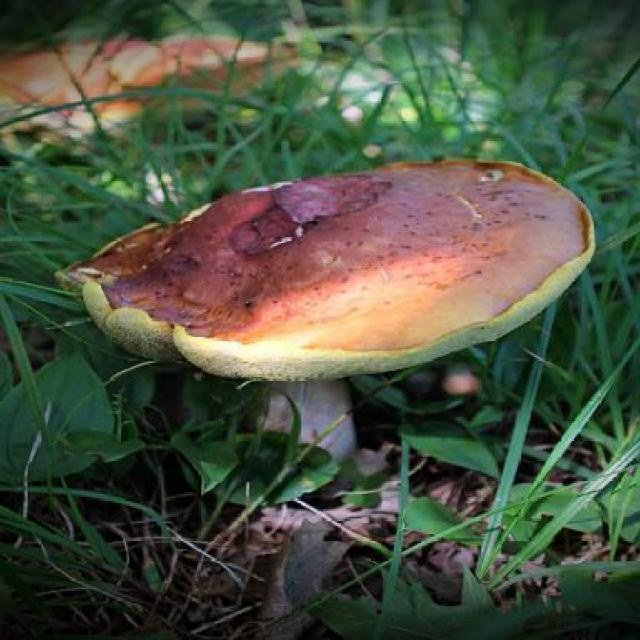Mushroom: (52, 159, 594, 461), (0, 34, 303, 150)
